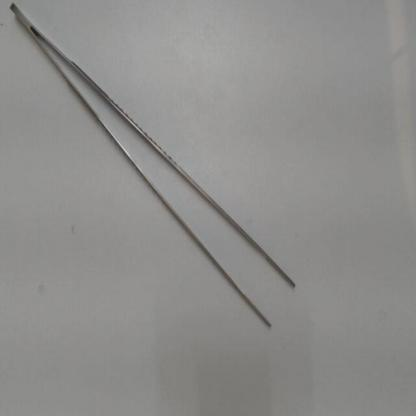DeBakey Dissector: (6, 1, 316, 352)
